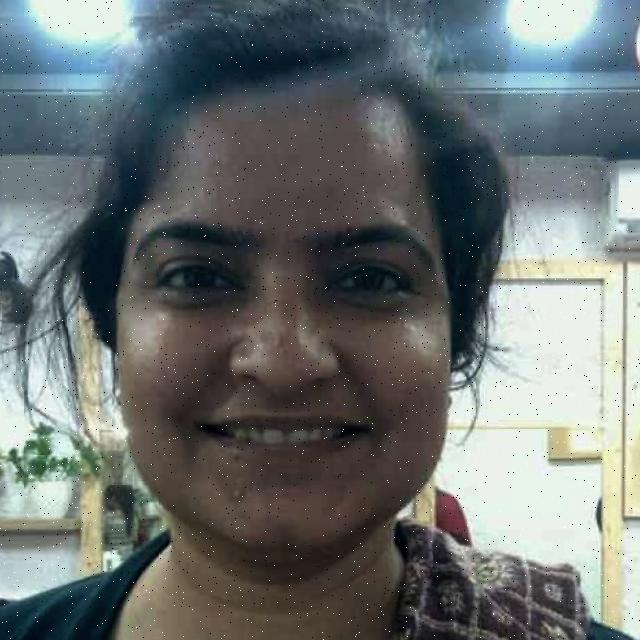puffy_eyes: (148, 286, 239, 310), (318, 292, 416, 314)
